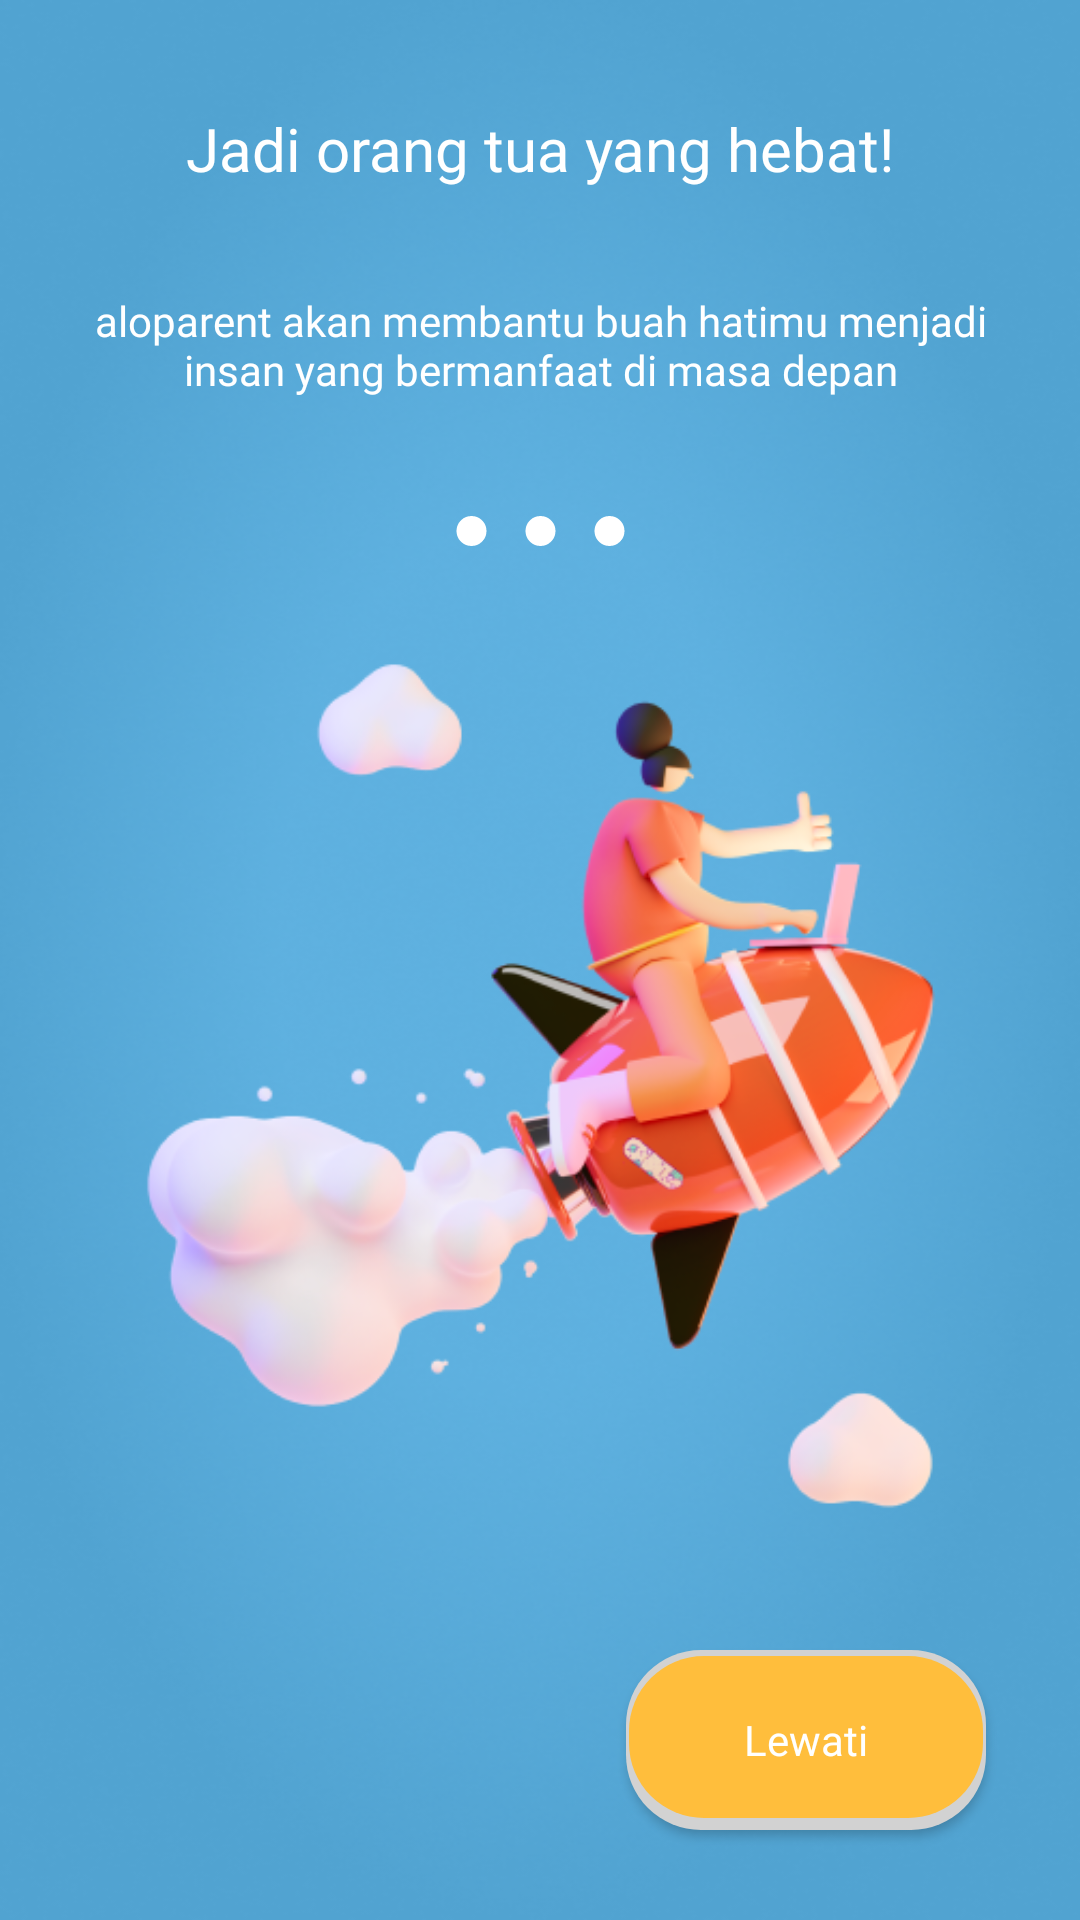

Icon click points for this 1080w x 1920h phone screenshot, format [x,y]:
dot: [471,531], [540,531], [609,531]
